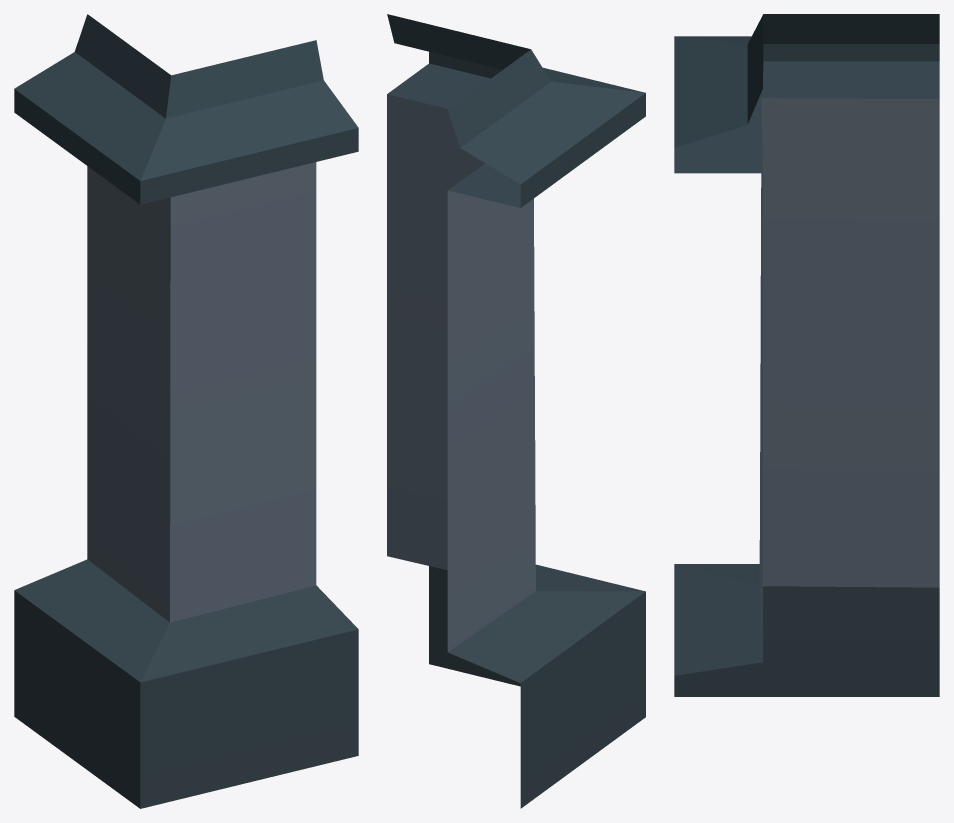
Rendered from corner_wall_inside_plain_A.fbx.
The picture shows the model from 3 angles, left to right: view 1: azimuth 30°, elevation 25°; view 2: azimuth 150°, elevation 25°; view 3: azimuth 270°, elevation 25°; orthographic projection. The views are drawn at different scales.
Parts seen in each view (by area): view 1: corner_wall_inside_plain_A; view 2: corner_wall_inside_plain_A; view 3: corner_wall_inside_plain_A.
Boxes of the visible parts, x1,y1,x2,y2 form: corner_wall_inside_plain_A: (14,14,358,808); corner_wall_inside_plain_A: (387,14,645,808); corner_wall_inside_plain_A: (674,14,939,696).
Bounding box in the file's own units: 100 × 300 × 100.
